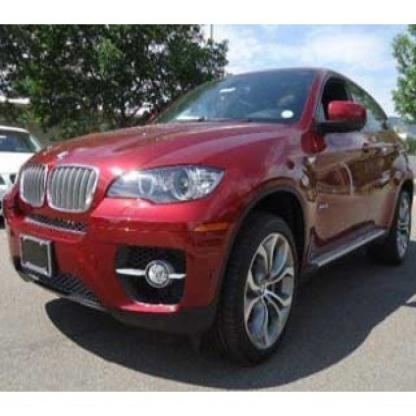Vehicle: (4, 67, 415, 371)
